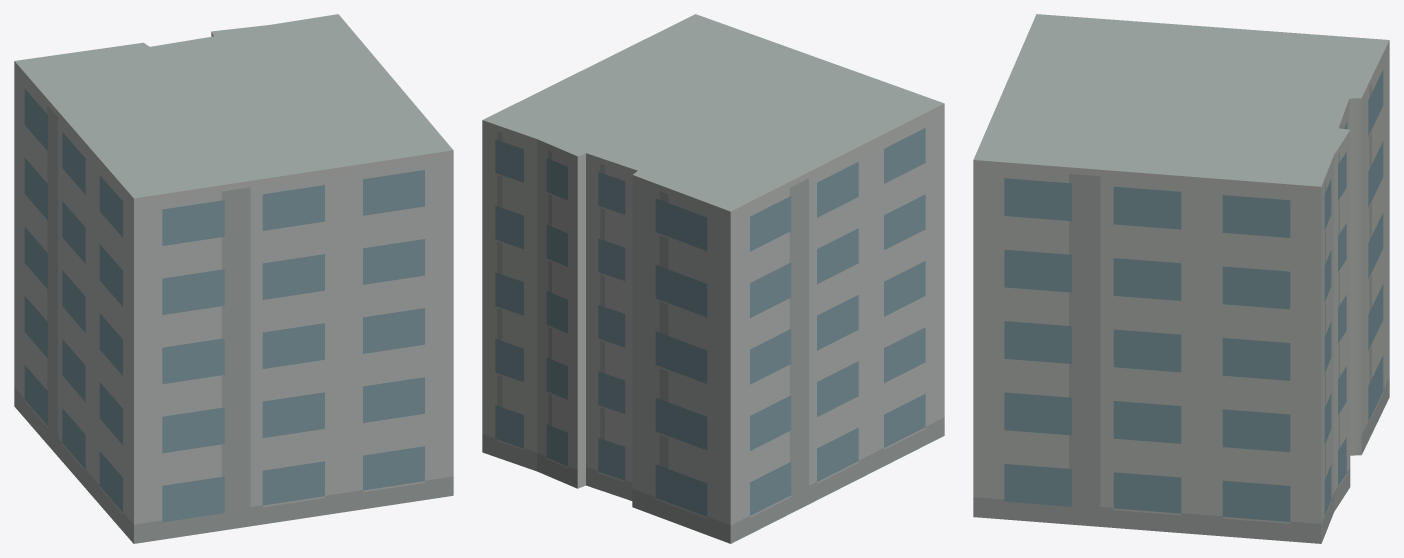
Rendered from survey-upis-32885096.glb.
The picture shows the model from 3 angles, left to right: view 1: azimuth 30°, elevation 25°; view 2: azimuth 150°, elevation 25°; view 3: azimuth 270°, elevation 25°; orthographic projection. The views are drawn at different scales.
Visible parts, largest first — view 1: survey-upis-32885096.tmp; view 2: survey-upis-32885096.tmp; view 3: survey-upis-32885096.tmp.
Part boxes in pixels (<box>): survey-upis-32885096.tmp: <box>14,14,453,543</box>; survey-upis-32885096.tmp: <box>482,14,944,543</box>; survey-upis-32885096.tmp: <box>973,14,1389,543</box>.
Size of the model in its own units: 13.76 by 13.25 by 14.01.
